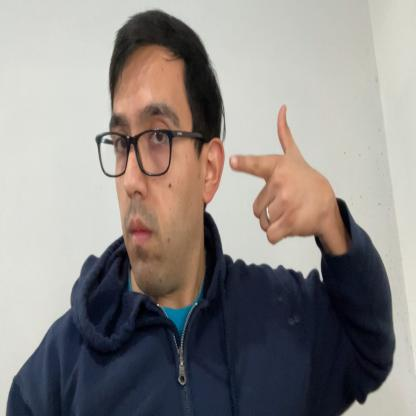G: (229, 104, 318, 244)
